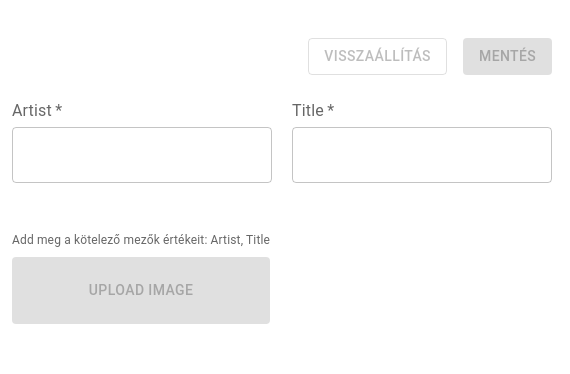
TopicItemForm saving › blocks submit when a required imageUpload field has no selected image
Type "Leonardo da Vinci" into the field with test id "form-input-artist" at [142, 155], box top-left (12, 127), bottom-right (272, 183)
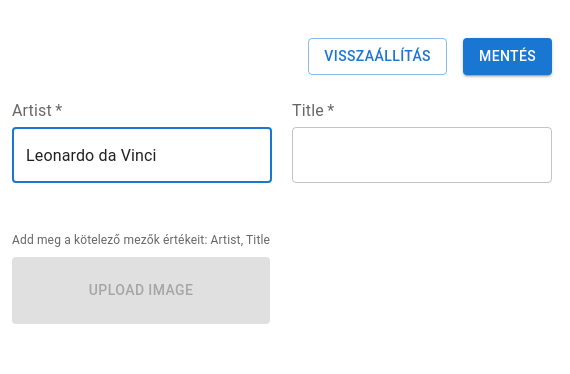
Type "Mona Lisa" into the field with test id "form-input-title" at [422, 155], box top-left (292, 127), bottom-right (552, 183)
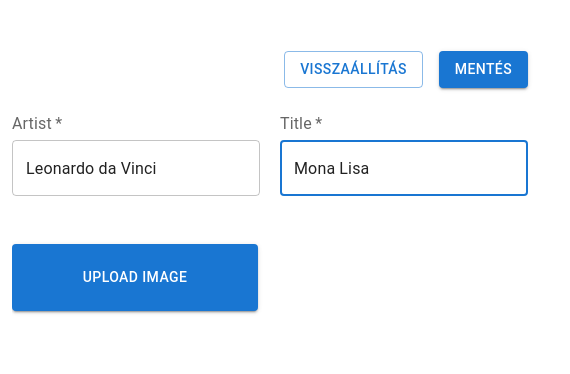
Click the button "Mentés" at [483, 70], box top-left (439, 51), bottom-right (528, 88)
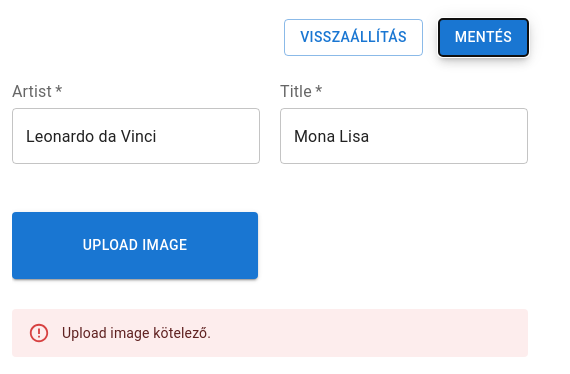
Check: the text "Upload image kötelező." is shown, box top-left (62, 325), bottom-right (211, 341)
